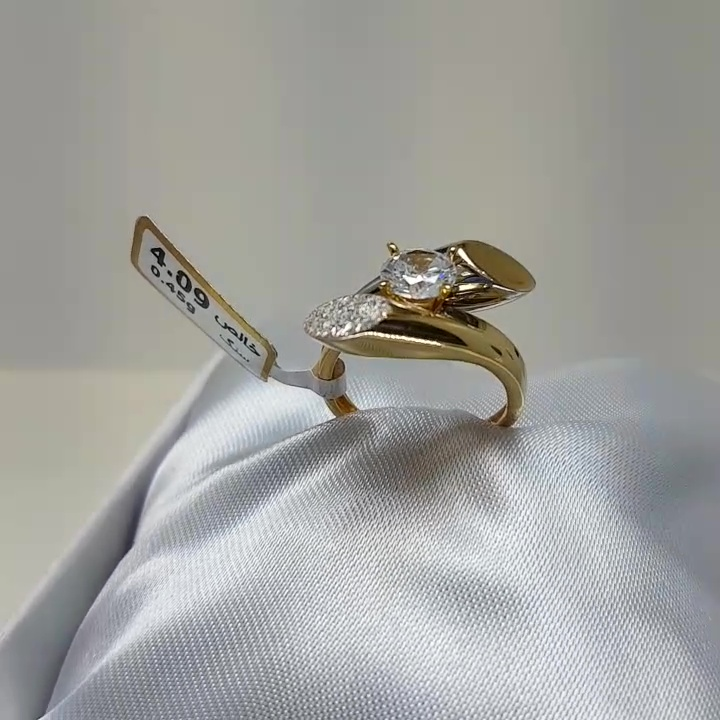Ring 7: (284, 216, 552, 446)
